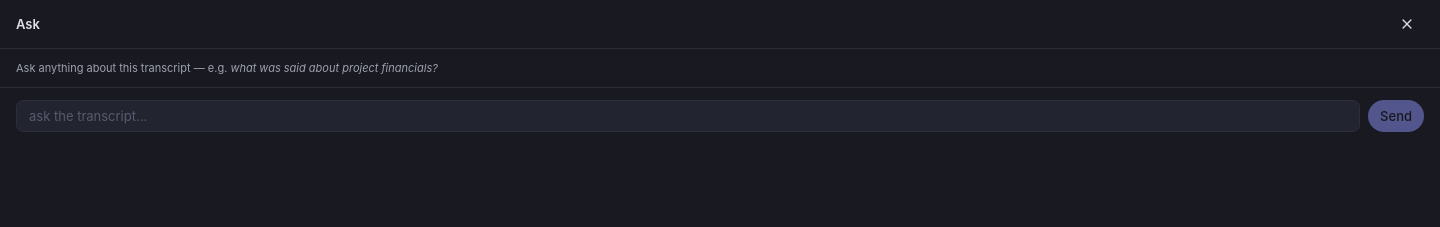
Test case: AskPanel › renders an answer with clickable citation pills
This screenshot has width=1440, height=227.
Later steps or results of the test are not shown.
Type "when?" into the field at [688, 116], box [16,100,1360,132]
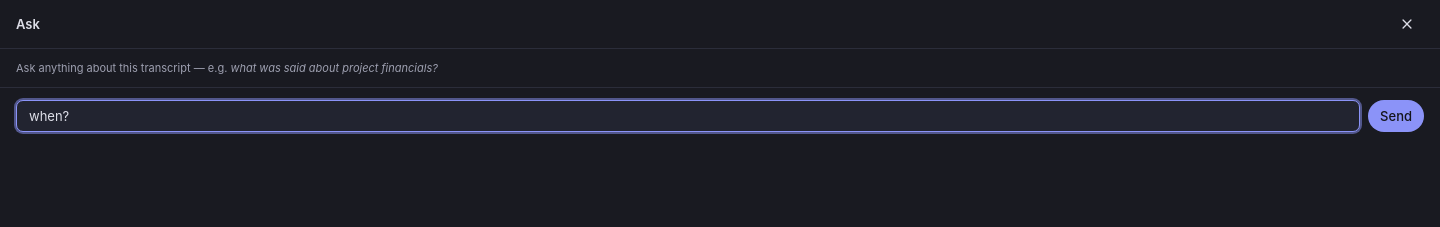
Click the button "Send" at [1396, 116], box [1368,100,1424,132]
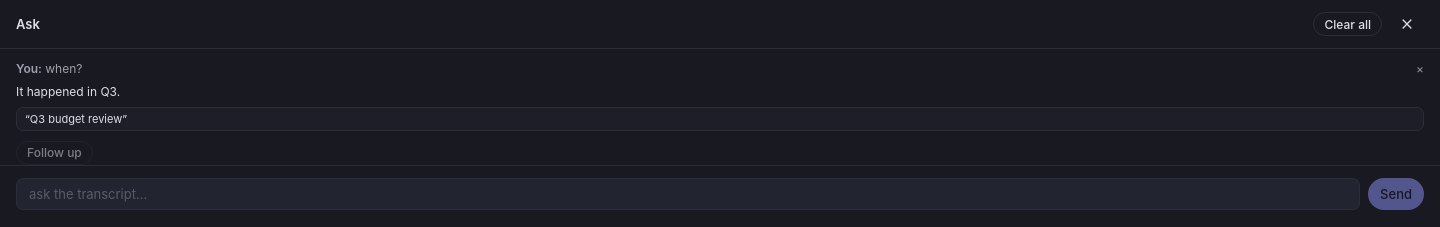
Expected: the text "It happened in Q3. “Q3 budget review”" is shown, [16,84,1424,131]
